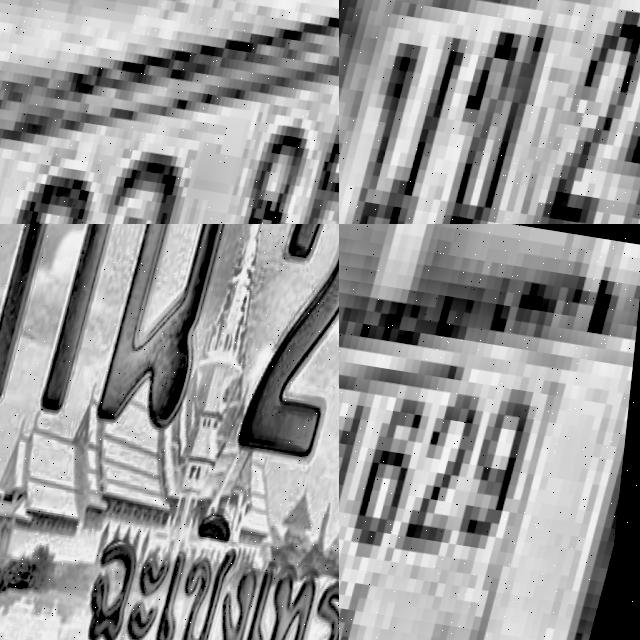license-plate: (0, 224, 339, 640), (339, 241, 640, 640), (0, 0, 339, 224), (339, 0, 640, 224)
